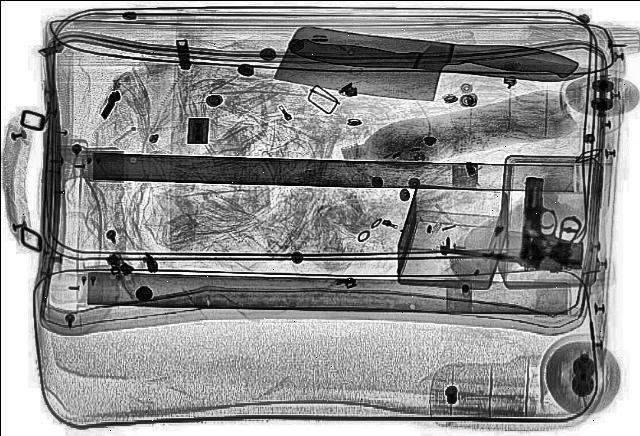Gun: (437, 202, 587, 273), (520, 176, 588, 272)
Knife: (276, 22, 582, 116), (288, 32, 594, 90)
